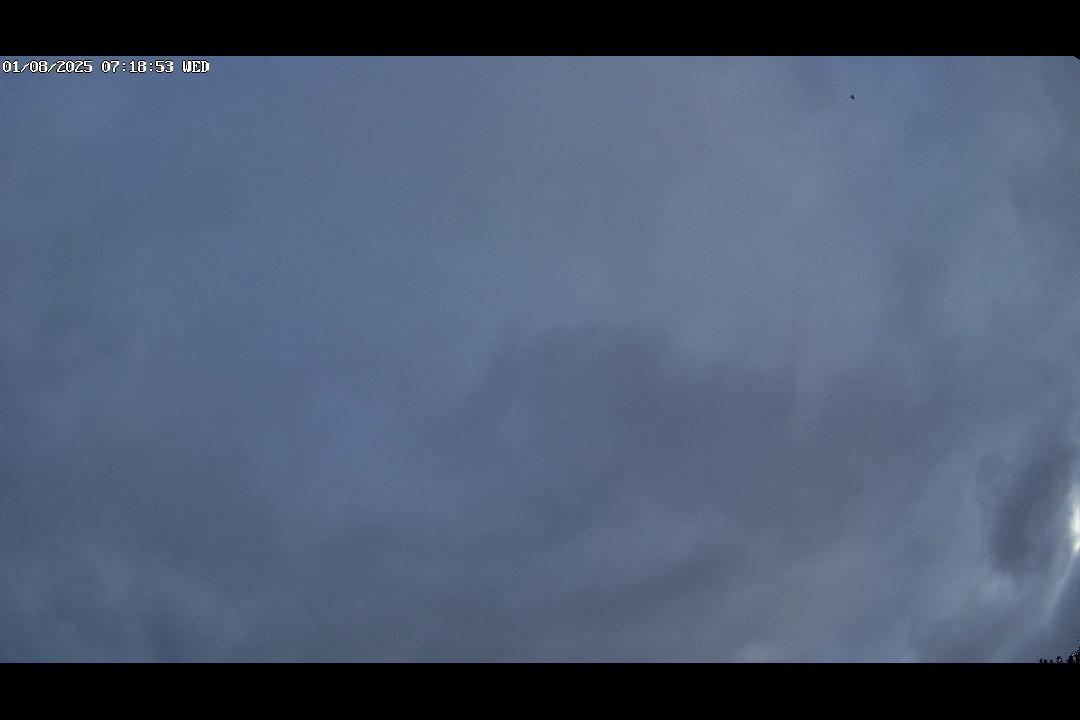WildLife: (844, 91, 862, 107)
